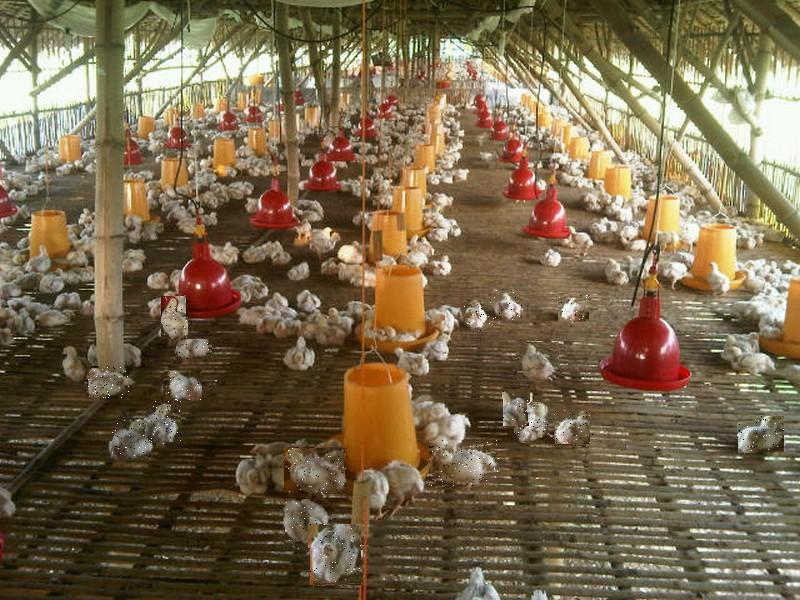chicken: (309, 525, 362, 588), (430, 440, 500, 486), (285, 448, 348, 496), (285, 499, 333, 549), (738, 417, 784, 455), (517, 343, 559, 384), (146, 400, 181, 445), (112, 419, 150, 460), (555, 409, 594, 446), (85, 367, 131, 398), (519, 403, 550, 443), (164, 370, 202, 401), (162, 296, 188, 339), (503, 390, 530, 426), (558, 294, 589, 324), (494, 289, 523, 320), (465, 300, 492, 331), (176, 340, 212, 362)
